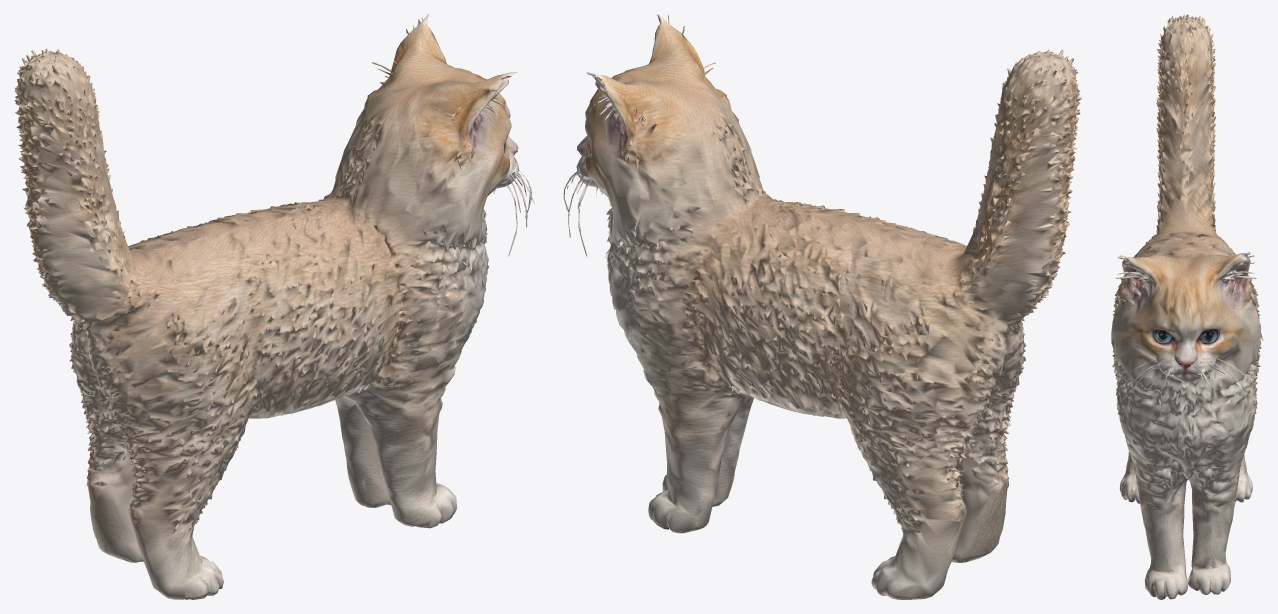
Rendered from PRINCEKIT.glb.
The picture shows the model from 3 angles, left to right: view 1: azimuth 30°, elevation 25°; view 2: azimuth 150°, elevation 25°; view 3: azimuth 270°, elevation 25°; orthographic projection. The views are drawn at different scales.
Parts seen in each view (by area): view 1: tripo_node_a77029b4-e4a6-4bb7-bd3d-8793613209bc; view 2: tripo_node_a77029b4-e4a6-4bb7-bd3d-8793613209bc; view 3: tripo_node_a77029b4-e4a6-4bb7-bd3d-8793613209bc.
Boxes of the visible parts, x1,y1,x2,y2 form: tripo_node_a77029b4-e4a6-4bb7-bd3d-8793613209bc: (14,14,534,599); tripo_node_a77029b4-e4a6-4bb7-bd3d-8793613209bc: (563,14,1082,599); tripo_node_a77029b4-e4a6-4bb7-bd3d-8793613209bc: (1111,14,1263,599).
Bounding box in the file's own units: 0.9573 × 0.9983 × 0.3177.
1 material, 1 textured.
